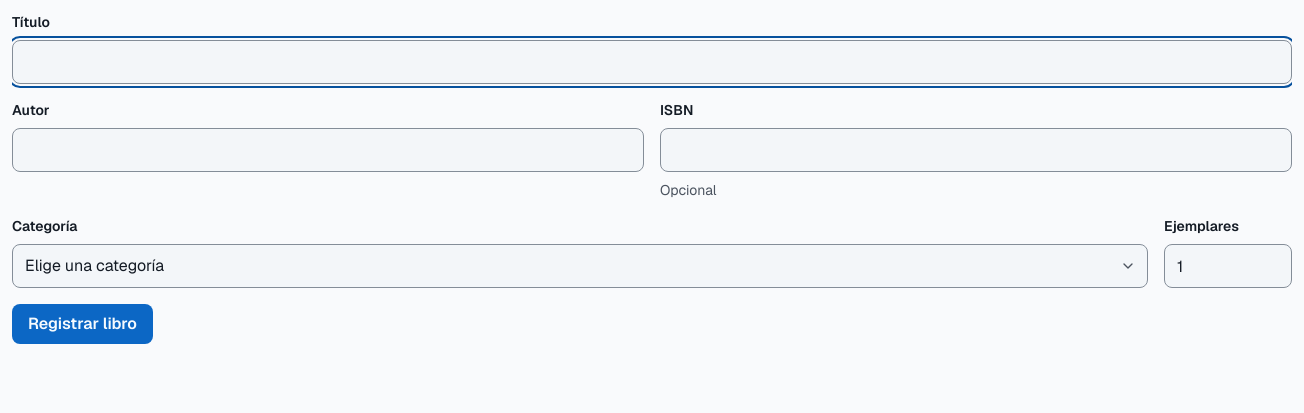
Test: BookIntakeForm › keeps the typed book and shows a refusal above the button
Step 1. Type "Mecánica" into the field labelled "Título" → (652, 62), box [12,40,1292,84]
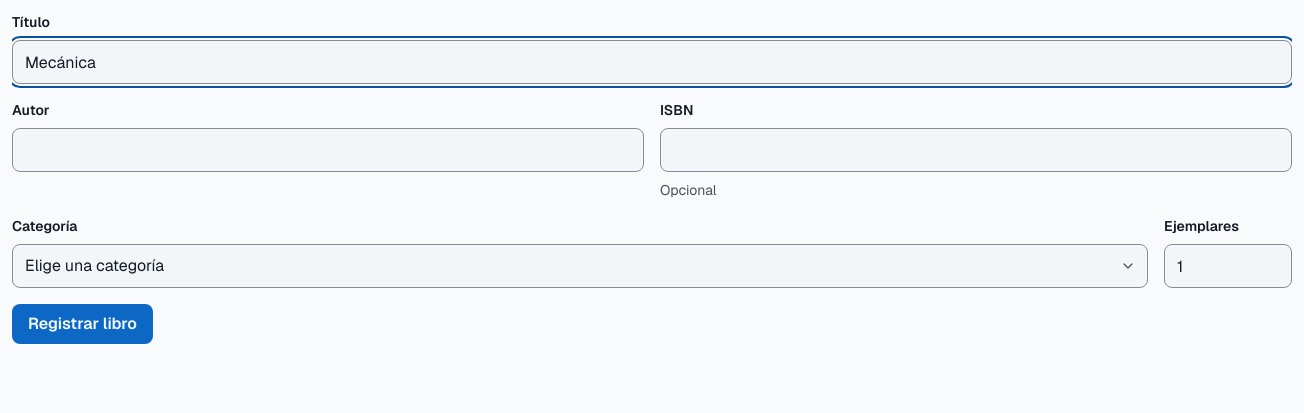
Step 2. Select "Física" in the dropdown labelled "Categoría" → (580, 266), box [12,244,1148,288]
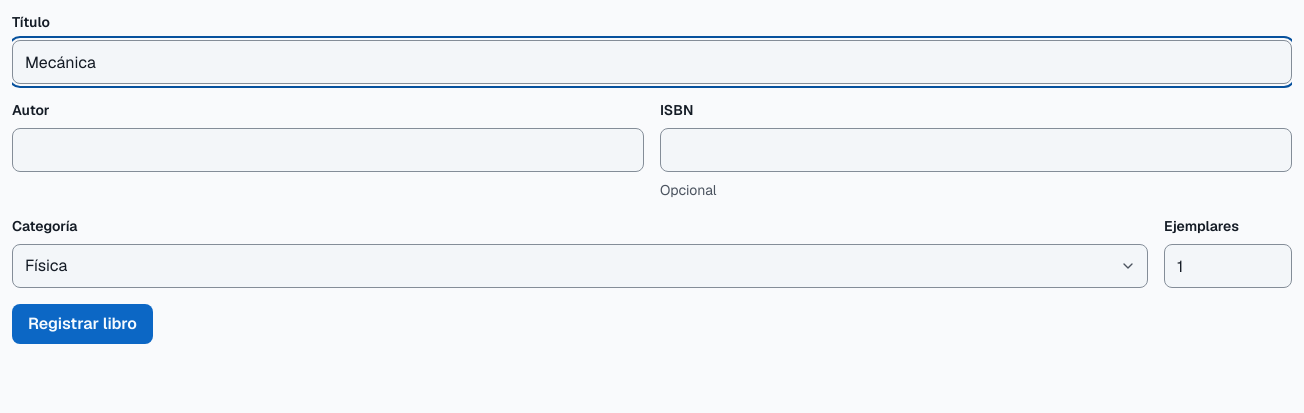
Step 3. Click the button "Registrar libro" → (82, 324), box [12,304,153,344]
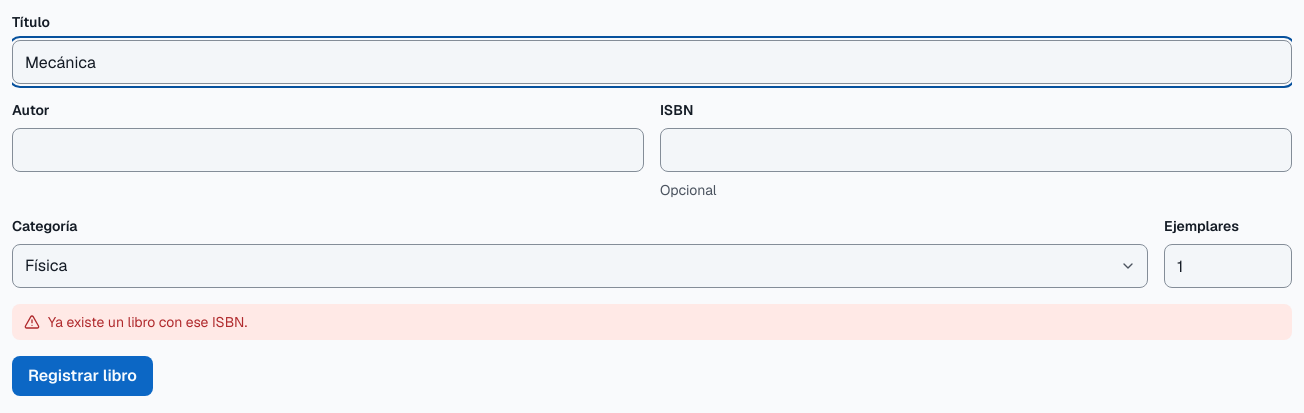
Check: the message reads "Ya existe un libro con ese ISBN.", box [48,313,247,331]
